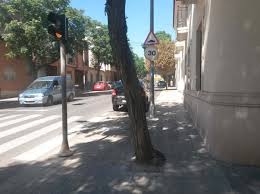Arbol: (100, 1, 160, 168)
Muro: (175, 1, 259, 166)
Poste: (49, 40, 75, 159)
Semaforo: (47, 11, 71, 46)
